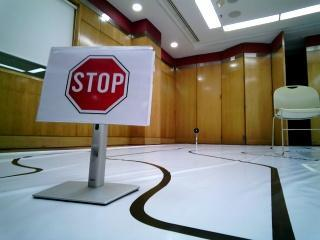stop: (51, 46, 145, 121)
